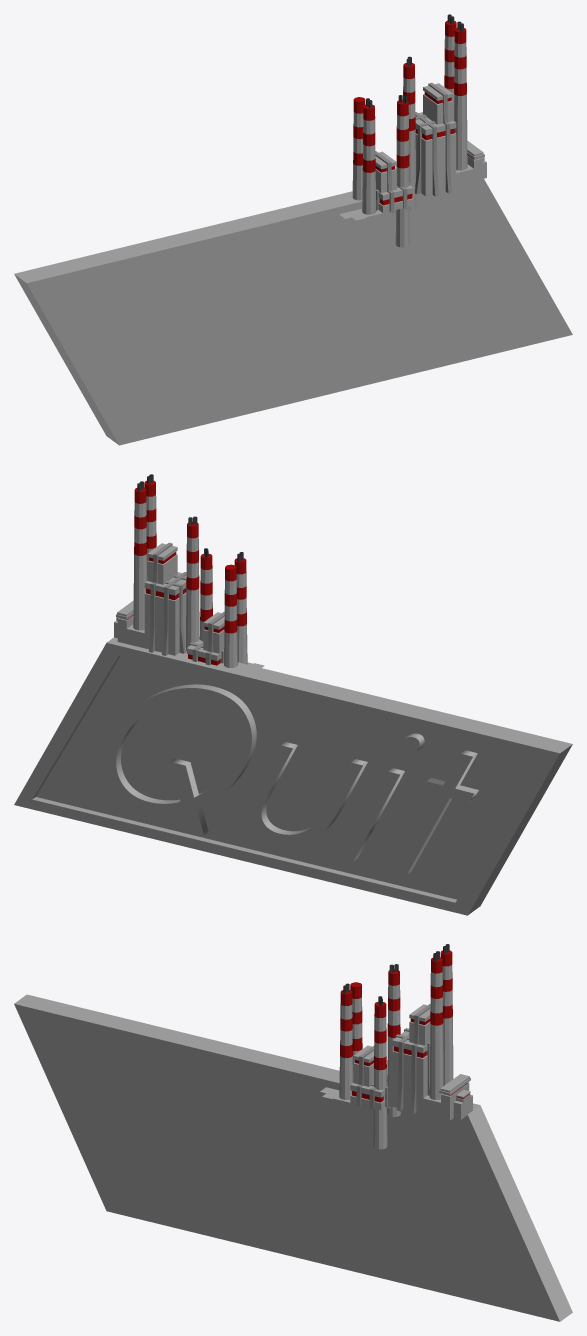
The model's file is ExitButton.fbx.
3 renders of one model, top to bottom at view 1: azimuth 30°, elevation 25°; view 2: azimuth 150°, elevation 25°; view 3: azimuth 330°, elevation 25°, orthographic.
Visible parts, largest first — view 1: Tipping Point.007; view 2: Tipping Point.007; view 3: Tipping Point.007.
Boxes of the visible parts, bbox=[...] form: Tipping Point.007: bbox=[14, 14, 572, 445]; Tipping Point.007: bbox=[14, 474, 572, 915]; Tipping Point.007: bbox=[14, 944, 572, 1321].
Size of the model in its own units: 8.72 by 5.25 by 0.7447.
